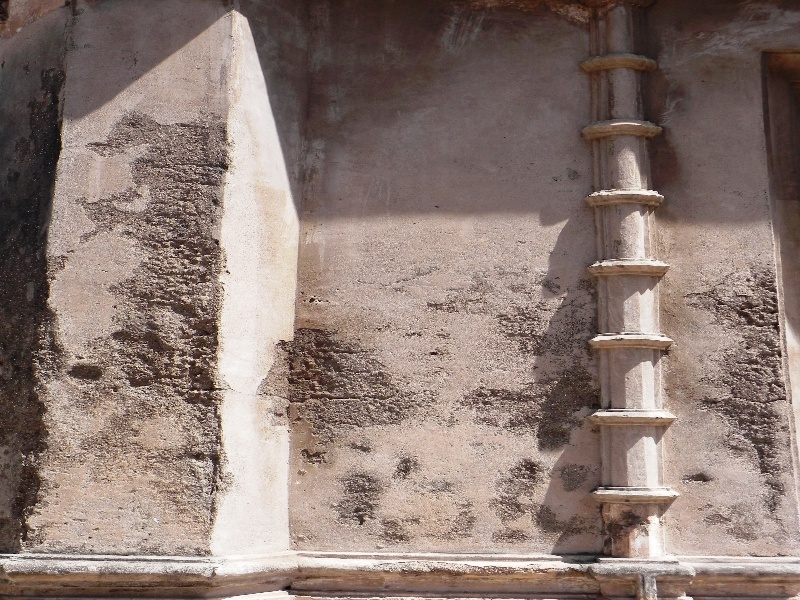Spalling: (83, 102, 225, 442), (457, 284, 602, 454), (699, 250, 792, 498), (258, 321, 426, 442)
